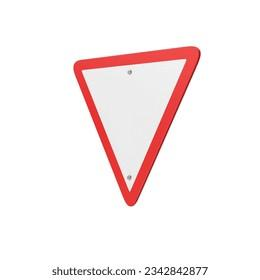Give Way: (67, 51, 202, 199)
